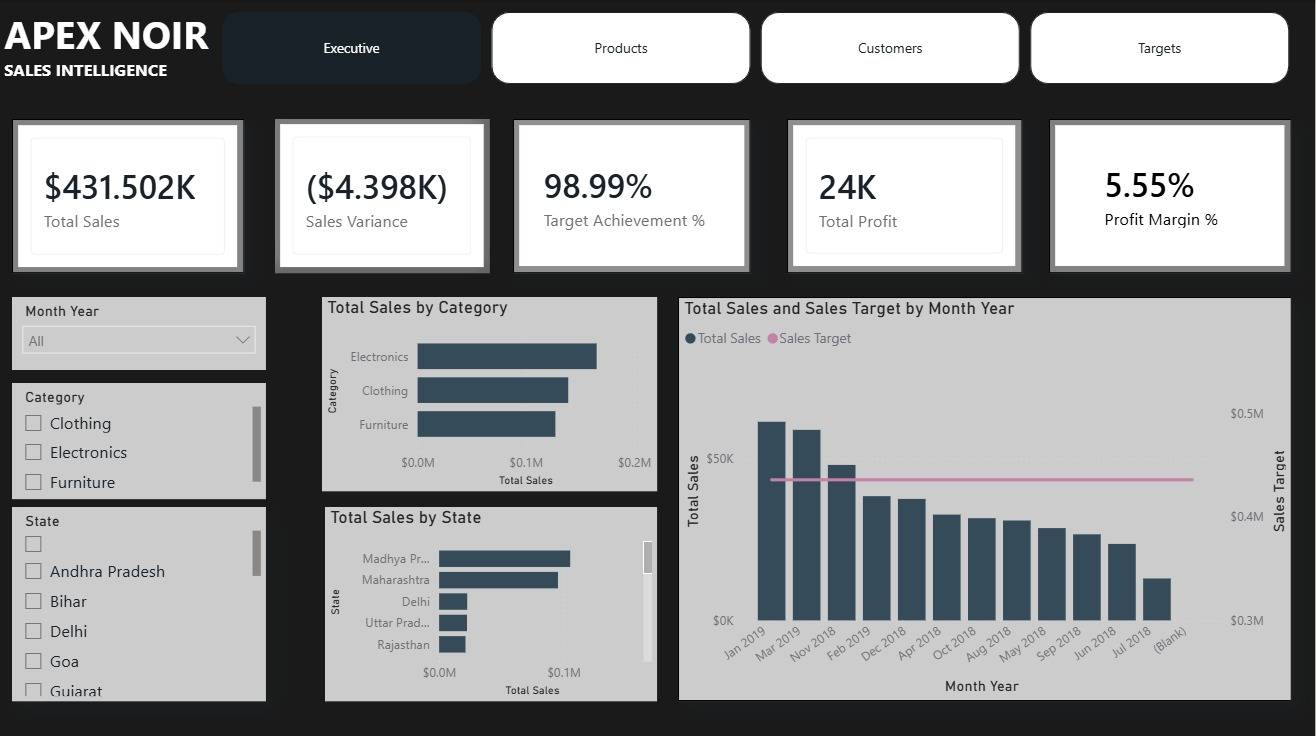

This screenshot's page, from the dashboard's own definition file:
{"tool":"powerbi","page":{"name":"Executive","canvas":[1280,720],"ordinal":0},"visuals":[{"type":"textbox","box":[0,2.7,223.3,91.5],"z":1000},{"type":"pageNavigator","box":[217.1,11.7,1040.5,70.9],"z":2000},{"type":"cardVisual","fields":{"Data":["Calendar.Total Sales"]},"box":[12.9,115.7,225.7,150],"z":3000},{"type":"cardVisual","fields":{"Data":["Calendar.Total Profit"]},"box":[766,115.7,228.7,149.8],"z":4000},{"type":"cardVisual","fields":{"Data":["Calendar.Target Achievement %"]},"box":[499.6,115.7,231.4,149.8],"z":5000},{"type":"cardVisual","fields":{"Data":["Calendar.Sales Variance"]},"box":[268.2,115.7,209,149.8],"z":6000},{"type":"cardVisual","fields":{"Data":["Calendar.Profit Margin %"]},"box":[1021.7,115.7,235.9,149.8],"z":7000},{"type":"lineClusteredColumnComboChart","fields":{"Category":["Calendar.Month Year"],"Y":["Calendar.Total Sales"],"Y2":["Calendar.Sales Target"]},"box":[660.2,288.8,597.4,392.9],"z":8000},{"type":"clusteredBarChart","fields":{"Category":["Category.Category"],"Y":["Calendar.Total Sales"]},"box":[314.3,288.6,325.7,188.6],"z":9000},{"type":"clusteredBarChart","fields":{"Category":["List of Orders.State"],"Y":["Calendar.Total Sales"]},"box":[317.1,492.9,322.9,188.6],"z":10000},{"type":"slicer","fields":{"Values":["Calendar.Month Year"]},"box":[12.9,288.6,247.1,71.4],"z":11000},{"type":"slicer","fields":{"Values":["Category.Category"]},"box":[12.9,372.9,247.1,112.9],"z":12000},{"type":"slicer","fields":{"Values":["List of Orders.State"]},"box":[12.9,492.9,247.1,188.6],"z":13000}]}

Visuals, with their boxes in screenshot pixels (x1, y1, x2, y2), scaled from the page's 1280x720 canvas onto the 1316x736 screenshot:
textbox: x1=0, y1=3, x2=230, y2=96
pageNavigator: x1=223, y1=12, x2=1293, y2=84
cardVisual - Calendar.Total Sales: x1=13, y1=118, x2=245, y2=272
cardVisual - Calendar.Total Profit: x1=788, y1=118, x2=1023, y2=271
cardVisual - Calendar.Target Achievement %: x1=514, y1=118, x2=752, y2=271
cardVisual - Calendar.Sales Variance: x1=276, y1=118, x2=491, y2=271
cardVisual - Calendar.Profit Margin %: x1=1050, y1=118, x2=1293, y2=271
lineClusteredColumnComboChart - Calendar.Month Year x Calendar.Total Sales: x1=679, y1=295, x2=1293, y2=697
clusteredBarChart - Category.Category x Calendar.Total Sales: x1=323, y1=295, x2=658, y2=488
clusteredBarChart - List of Orders.State x Calendar.Total Sales: x1=326, y1=504, x2=658, y2=697
slicer - Calendar.Month Year: x1=13, y1=295, x2=267, y2=368
slicer - Category.Category: x1=13, y1=381, x2=267, y2=497
slicer - List of Orders.State: x1=13, y1=504, x2=267, y2=697
